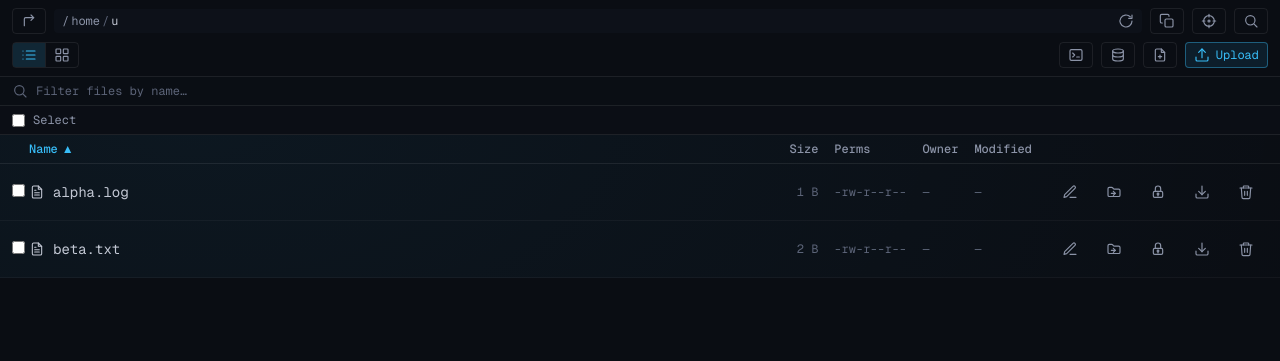
FileBrowser name filter › shows a no-match message when nothing matches the filter
Type "zzz" into the field labelled "Filter files by name".
click(652, 91); type("zzz")  # box [36, 83, 1268, 99]
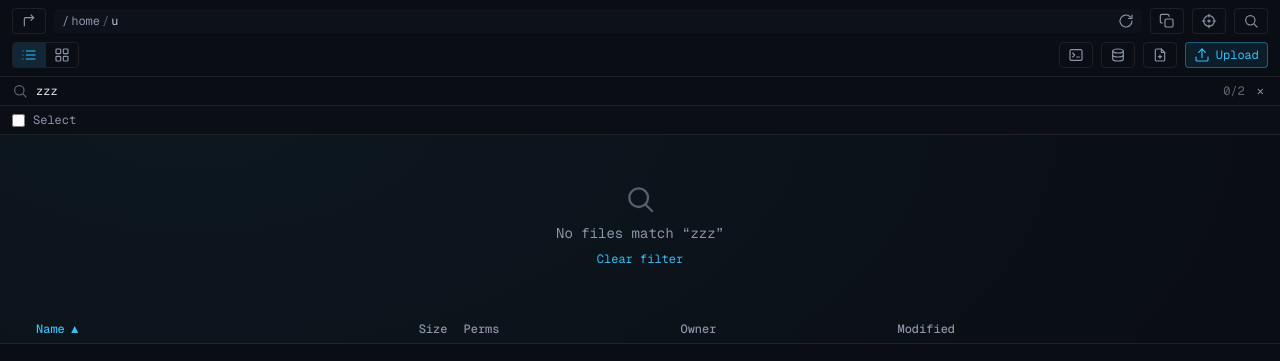
Expected: the text "No files match “zzz”" is shown, [556, 223, 724, 243]
